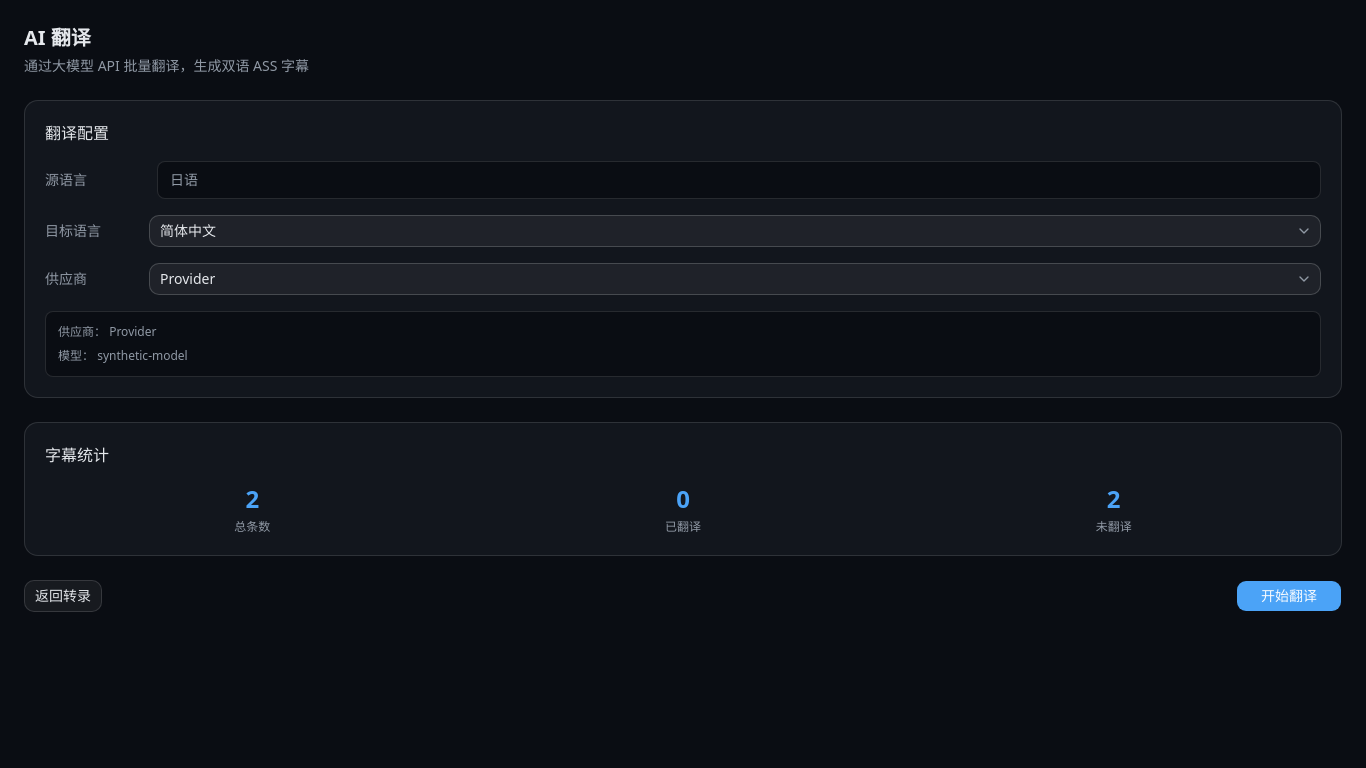
Test: TranslateView › shows a failed state when no cue was translated
What coordinates should you click on to do the following:
click the button "开始翻译"
I would click on:
 (1289, 596)
Its box is [1236,580,1342,612].
(page scrolled)
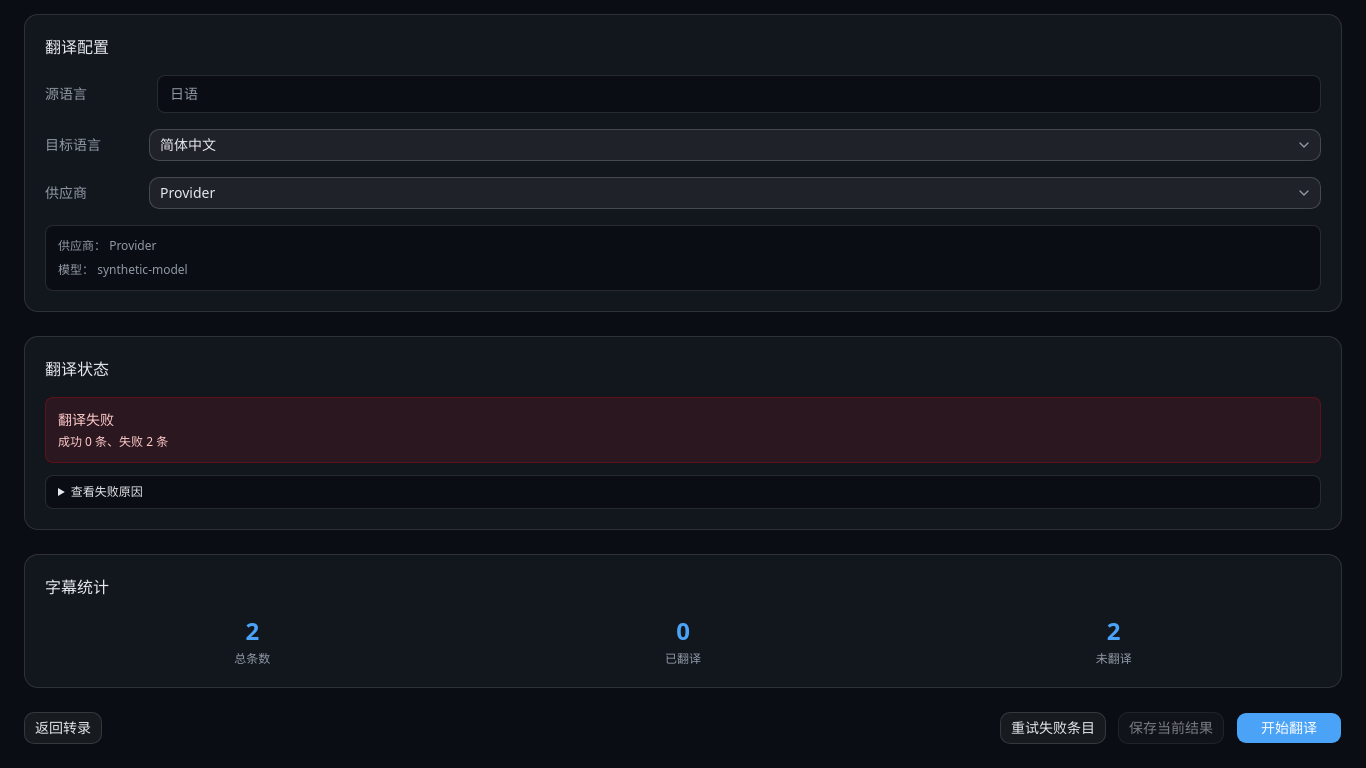
Check: the text "翻译失败" is shown, box [58,410,114,429]
Check: the text "成功 0 条、失败 2 条" is shown, box [58,433,168,450]
Check: the button "保存当前结果" is disabled, box [1118,712,1224,744]
